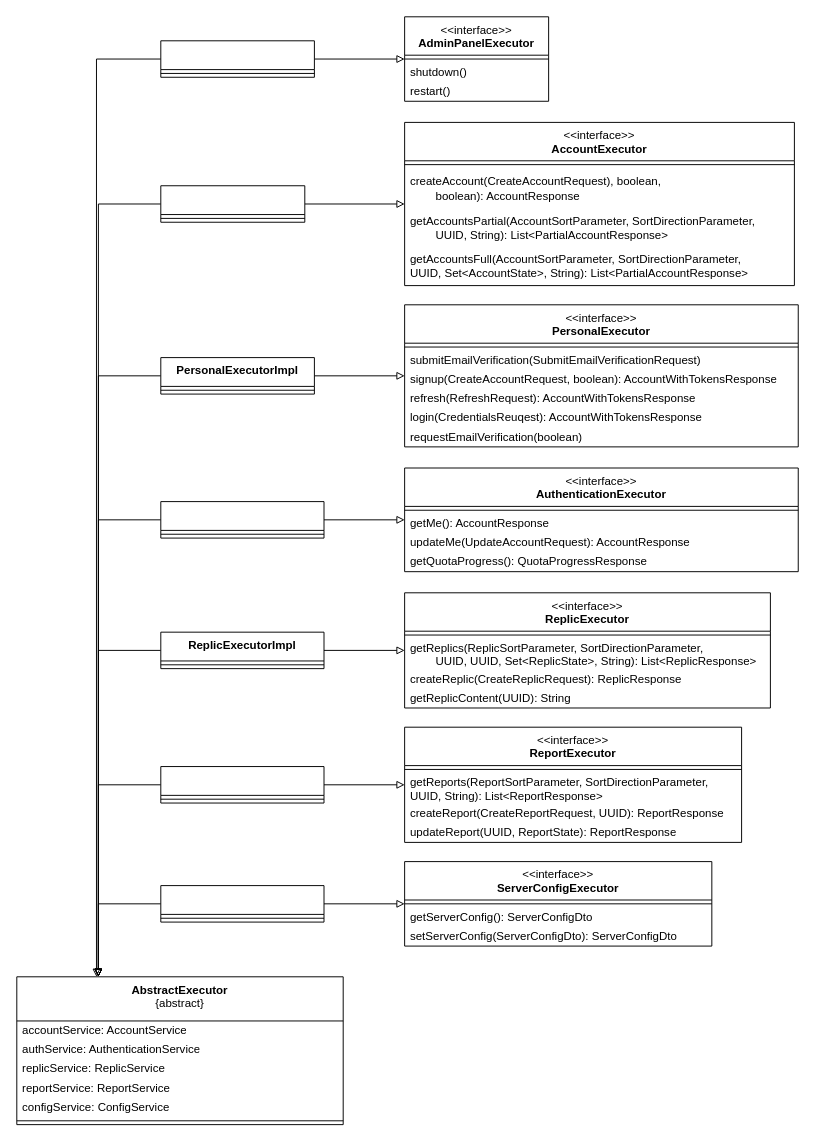
Image size: 815x1141. Some labels were removed from this diagram. The centre of each missing label's shape, as x and y in pixels:
AccountExecutorImpl: the point at 232,203
AdminPanelExecutorImpl: the point at 237,58
AuthenticationExecutorImpl: the point at 242,519
ReportExecutorImpl: the point at 242,784
ServerConfigExecutorImpl: the point at 242,903
